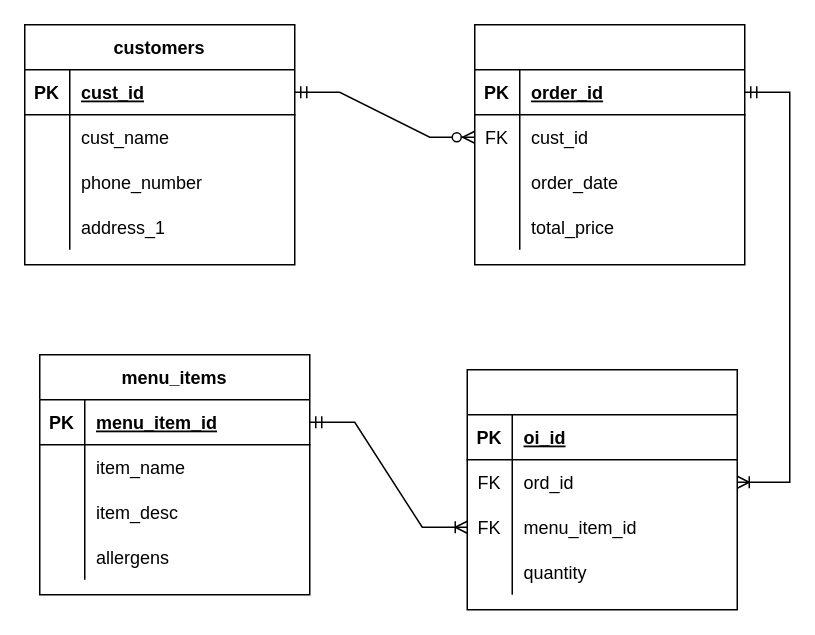
This 815x635 diagram has some shape labels left out. Here are the shapes that lost their labels. From the top down, the box of each, then its label:
(473, 23, 745, 265): Orders
(466, 368, 737, 610): order_items
